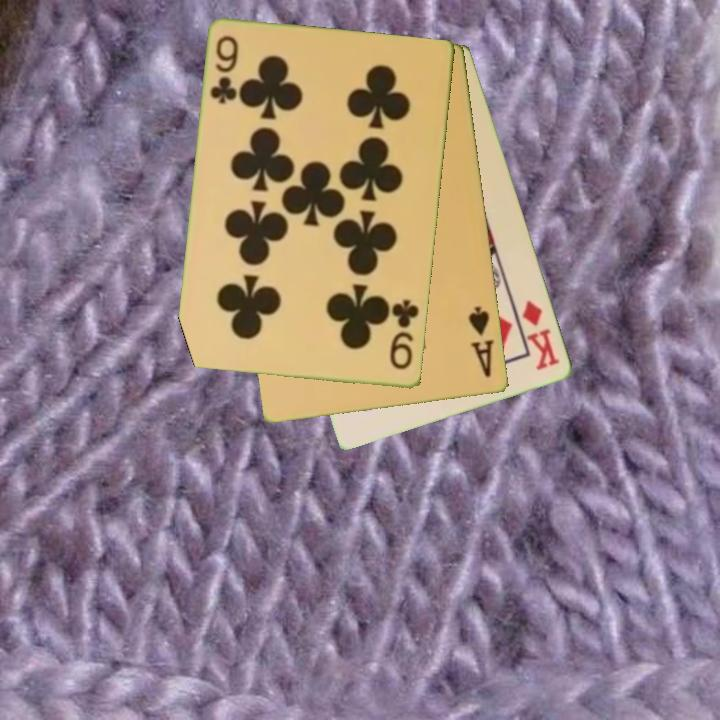9c: (386, 296, 423, 373), (207, 32, 242, 107)
As: (465, 303, 498, 381)
Kd: (519, 296, 563, 374)
